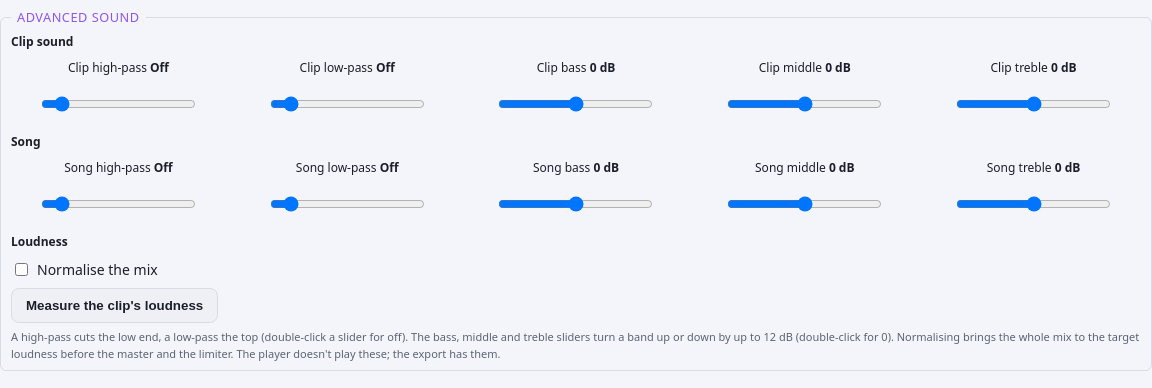
Test: the advanced sound box › measures the clip's loudness over the clip and shows it
Click the button "Measure the clip's loudness": (115, 306) x1=11 y1=288 x2=218 y2=323
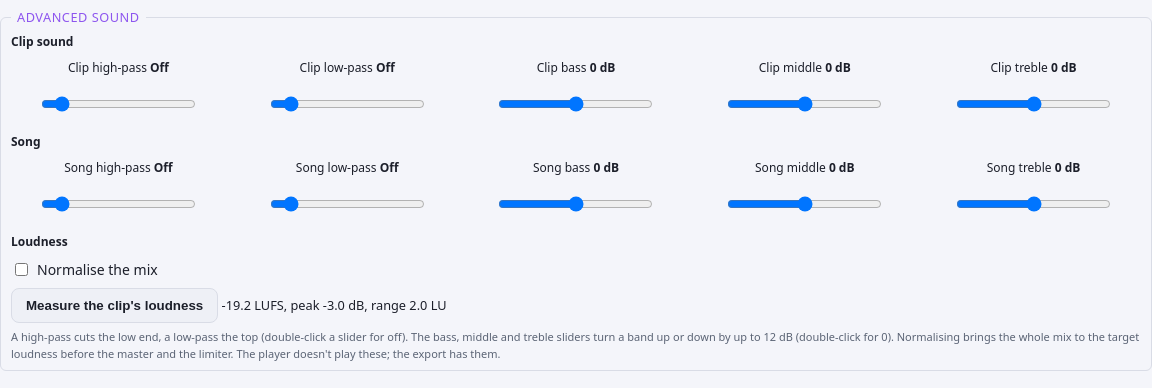
Now the message reads "-19.2 LUFS, peak -3.0 dB, range 2.0 LU", box x1=222 y1=296 x2=447 y2=314
